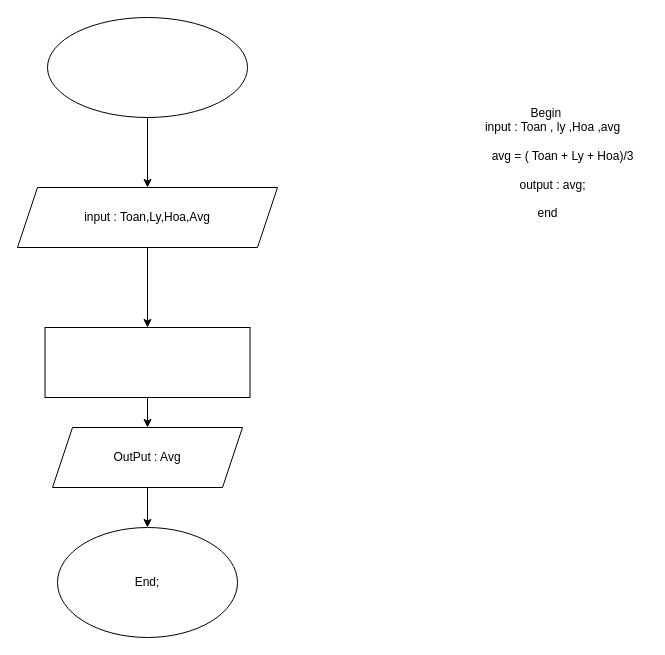
Some shapes in this 665 by 655 pixel diagram are drawn without their labels. The shapes that lost their labels are listed below. From the top down, each one's centre as x and y in pixels, then its label:
the point at 147,67: Begin
the point at 147,362: Avg = (Toan+Ly+Hoa)/3
